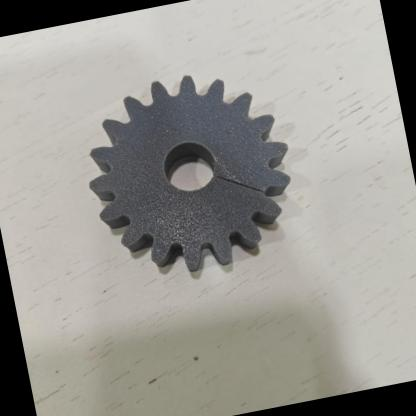defect: (203, 140, 311, 238)
gear: (56, 43, 332, 314)
